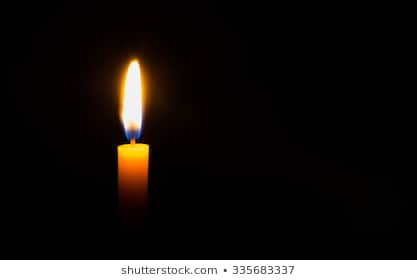Fire: (118, 55, 146, 141)
